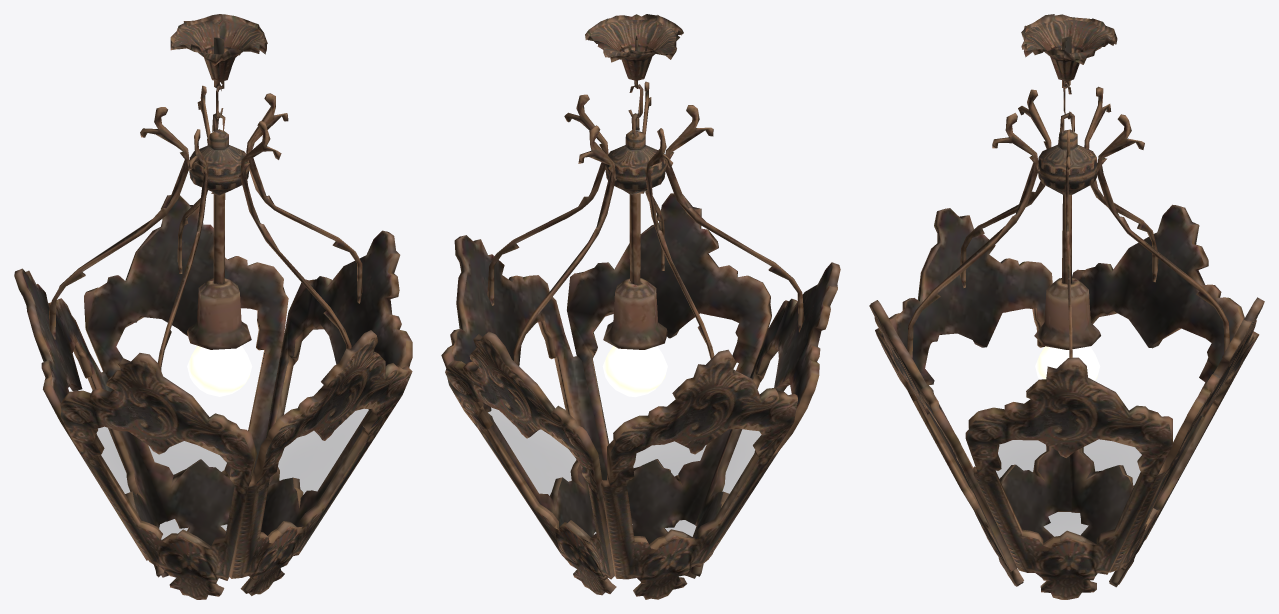
The model's file is lantern_chandelier.glb.
The picture shows the model from 3 angles, left to right: view 1: azimuth 30°, elevation 25°; view 2: azimuth 150°, elevation 25°; view 3: azimuth 270°, elevation 25°; orthographic projection.
Visible parts, largest first — view 1: lantern_chandelier_01; view 2: lantern_chandelier_01; view 3: lantern_chandelier_01.
Part boxes in pixels (left/top/right/bottom): lantern_chandelier_01: left=14, top=14, right=412, bottom=599; lantern_chandelier_01: left=441, top=14, right=840, bottom=599; lantern_chandelier_01: left=869, top=14, right=1264, bottom=599.
Size of the model in its own units: 0.5778 by 0.8776 by 0.5746.
Materials: 3 (2 with a texture image).
